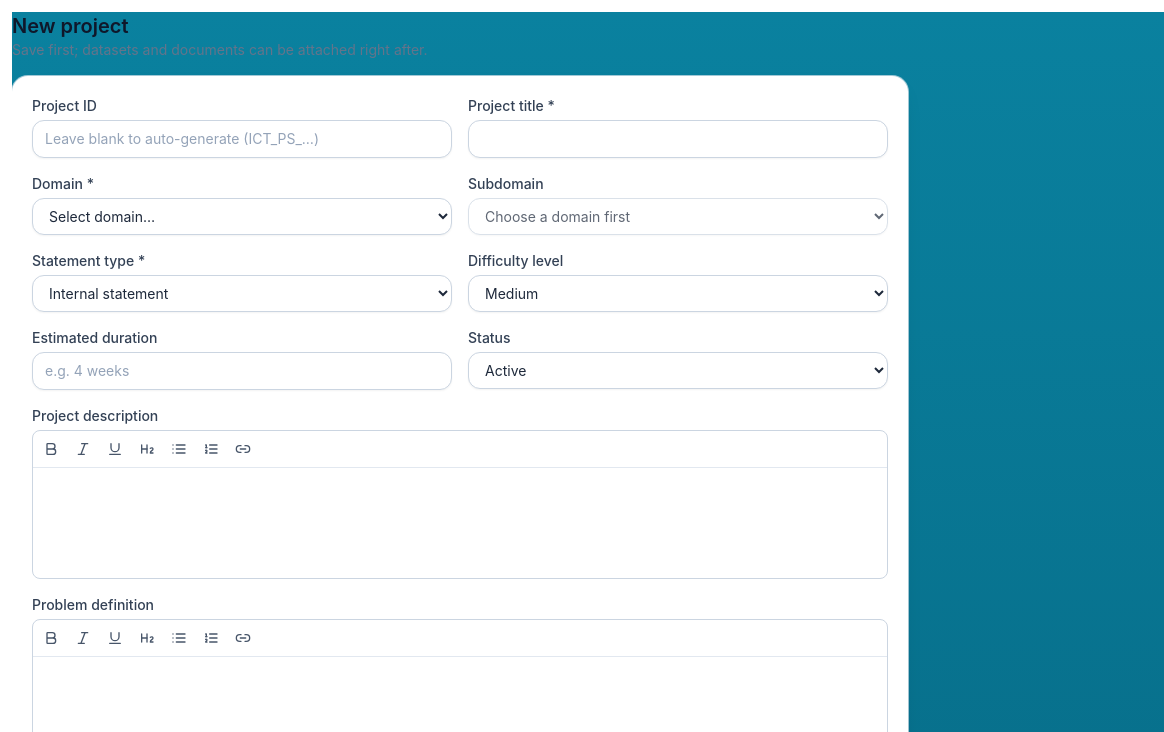
Test case: project form – subdomain › lists only active subdomains of the chosen domain and requires one
Expected: the dropdown labelled "Subdomain" is disabled, [468,198,888,235]
Select "AI & ML" in the dropdown labelled "Domain *": (242, 216) [32,198,452,235]
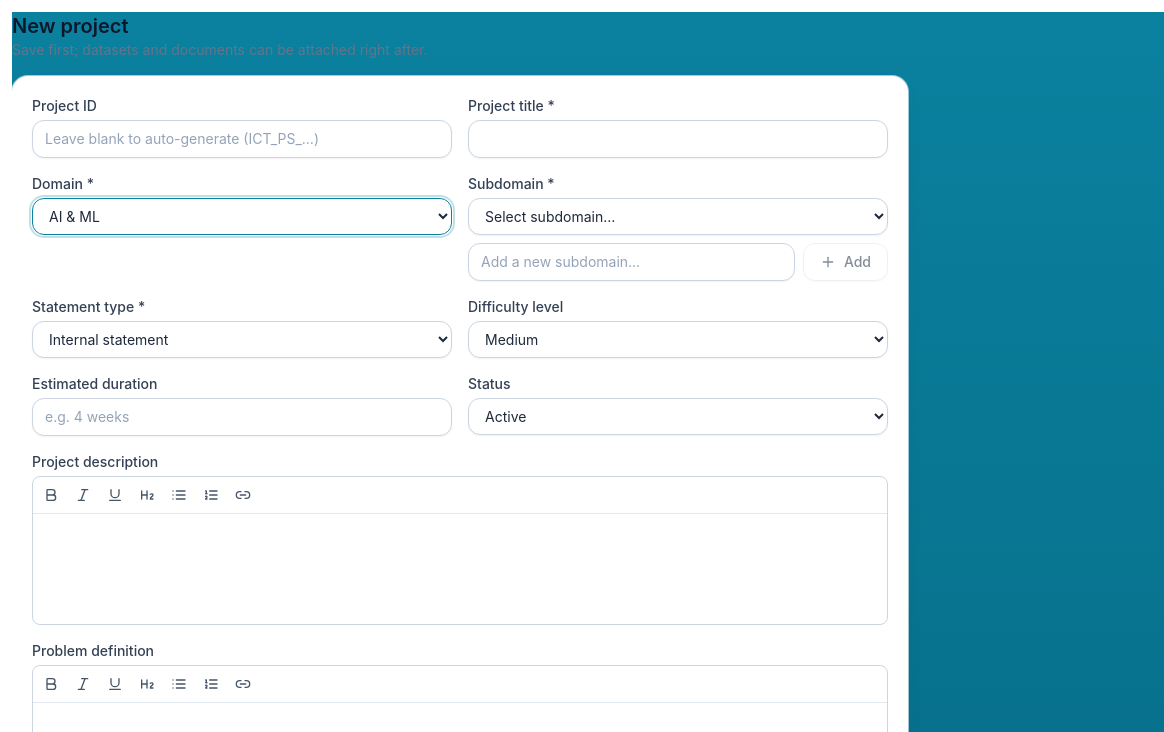
Expected: the dropdown labelled "Subdomain *" is enabled, [468,198,888,235]
